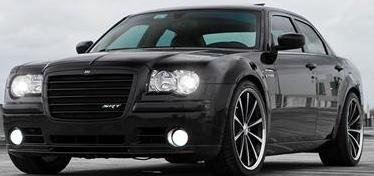front_view: (7, 60, 216, 162)
headlight: (146, 66, 203, 102)
side_glass: (271, 13, 333, 55)
